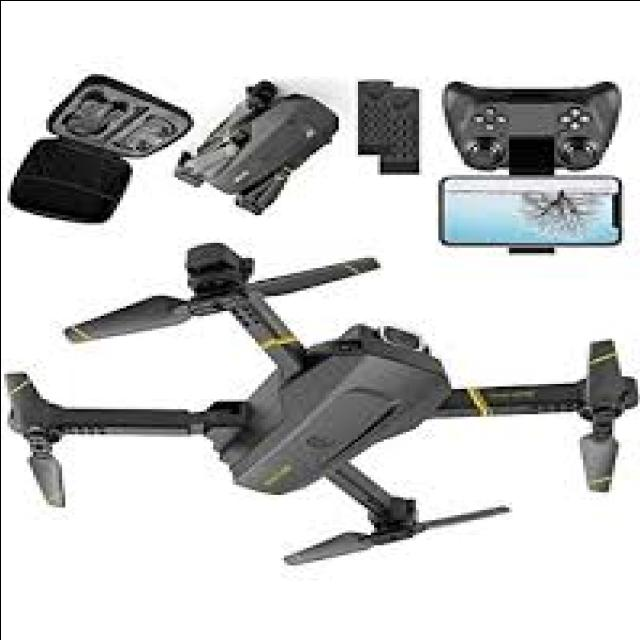drone: (0, 238, 640, 582)
